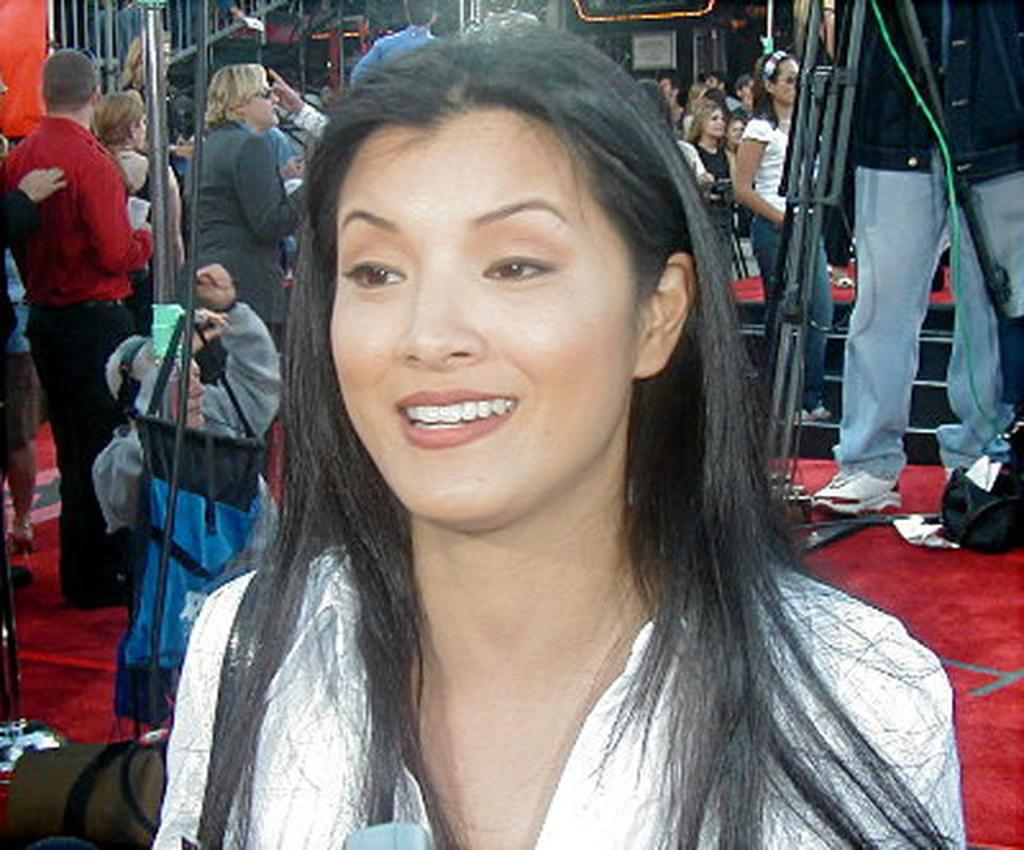face: (330, 133, 634, 520), (156, 357, 205, 430), (241, 75, 279, 126), (773, 58, 802, 103), (130, 109, 147, 146), (704, 109, 724, 137), (729, 120, 744, 143), (657, 78, 671, 99), (743, 81, 757, 101), (705, 77, 717, 94)
